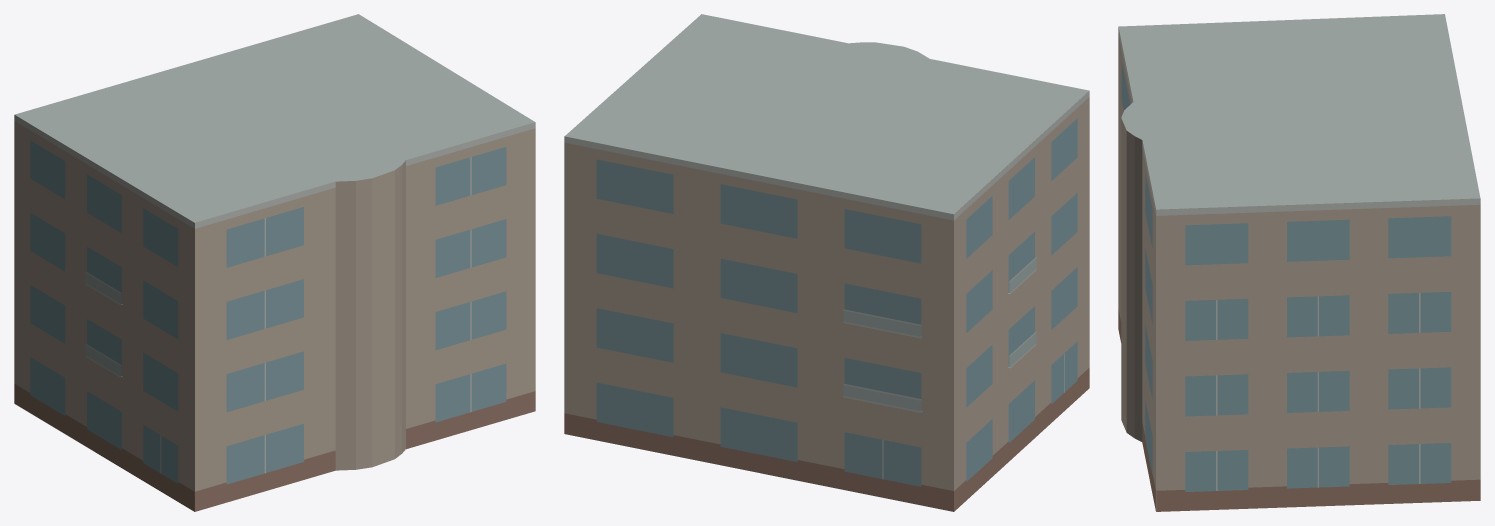
The model's file is survey-upis-32728529.glb.
The picture shows the model from 3 angles, left to right: view 1: azimuth 30°, elevation 25°; view 2: azimuth 150°, elevation 25°; view 3: azimuth 270°, elevation 25°; orthographic projection. The views are drawn at different scales.
Parts seen in each view (by area): view 1: survey-upis-32728529.tmp; view 2: survey-upis-32728529.tmp; view 3: survey-upis-32728529.tmp.
Boxes of the visible parts, x1,y1,x2,y2 form: survey-upis-32728529.tmp: (14, 14, 535, 511); survey-upis-32728529.tmp: (564, 14, 1089, 511); survey-upis-32728529.tmp: (1118, 14, 1480, 511).
Bounding box in the file's own units: 16.24 × 11.7 × 12.71.
